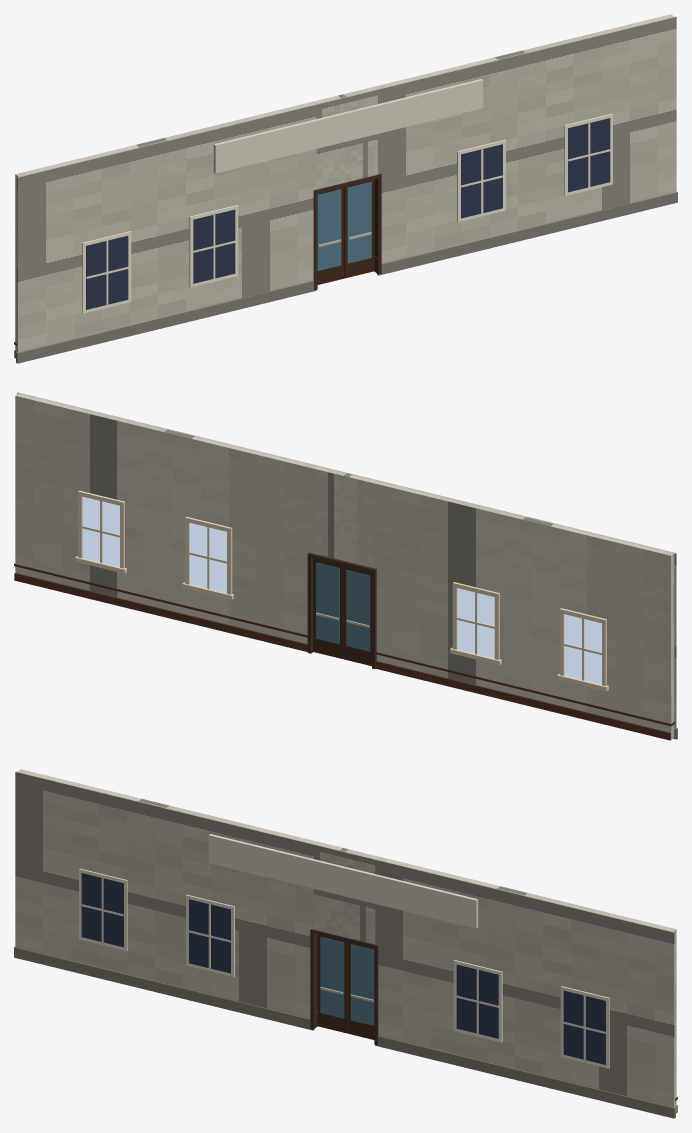
Rendered from cityhall_front.glb.
3 renders of one model, top to bottom at view 1: azimuth 30°, elevation 25°; view 2: azimuth 150°, elevation 25°; view 3: azimuth 330°, elevation 25°, orthographic.
Visible parts, largest first — view 1: Box6, Box8, Box22, Box10, Box7, Box9, Box24, Box57, Box35, Box46, Box19, Box15 (+9 smaller); view 2: Box1, Box3, Box5, Box2, Box4, Box53, Box31, Box42, Box64, Box15, Box19, Box18 (+6 smaller); view 3: Box8, Box6, Box22, Box10, Box9, Box7, Box57, Box24, Box46, Box35, Box15, Box19 (+9 smaller).
Boxes of the visible parts, x1,y1,x2,y2 form: Box6: (17, 104, 316, 352); Box8: (377, 16, 676, 274); Box22: (213, 79, 483, 173); Box10: (316, 89, 377, 189); Box7: (16, 281, 316, 363); Box9: (378, 192, 677, 275); Box24: (86, 235, 128, 309); Box57: (568, 118, 610, 192); Box35: (193, 209, 235, 283); Box46: (461, 144, 502, 218); Box19: (347, 182, 371, 263); Box15: (317, 189, 341, 270); Box1: (373, 481, 674, 739); Box3: (15, 393, 315, 643); Box5: (312, 466, 376, 567); Box2: (376, 661, 670, 740); Box4: (14, 573, 307, 651); Box53: (189, 523, 226, 592); Box31: (564, 614, 601, 684); Box42: (457, 588, 494, 658); Box64: (82, 497, 119, 566); Box15: (346, 570, 370, 651); Box19: (316, 562, 339, 644); Box18: (313, 558, 343, 658); Box8: (375, 859, 674, 1107); Box6: (15, 771, 314, 1029); Box22: (208, 834, 478, 928); Box10: (314, 844, 375, 944); Box9: (375, 1036, 675, 1118); Box7: (14, 947, 313, 1030); Box57: (563, 990, 605, 1064); Box24: (81, 873, 123, 947); Box46: (456, 964, 498, 1038); Box35: (189, 899, 230, 973); Box15: (320, 937, 344, 1018); Box19: (350, 944, 374, 1025).
Bounding box in the file's own units: 17.27 × 4.64 × 0.385.
Materials: 13 (2 with a texture image).
